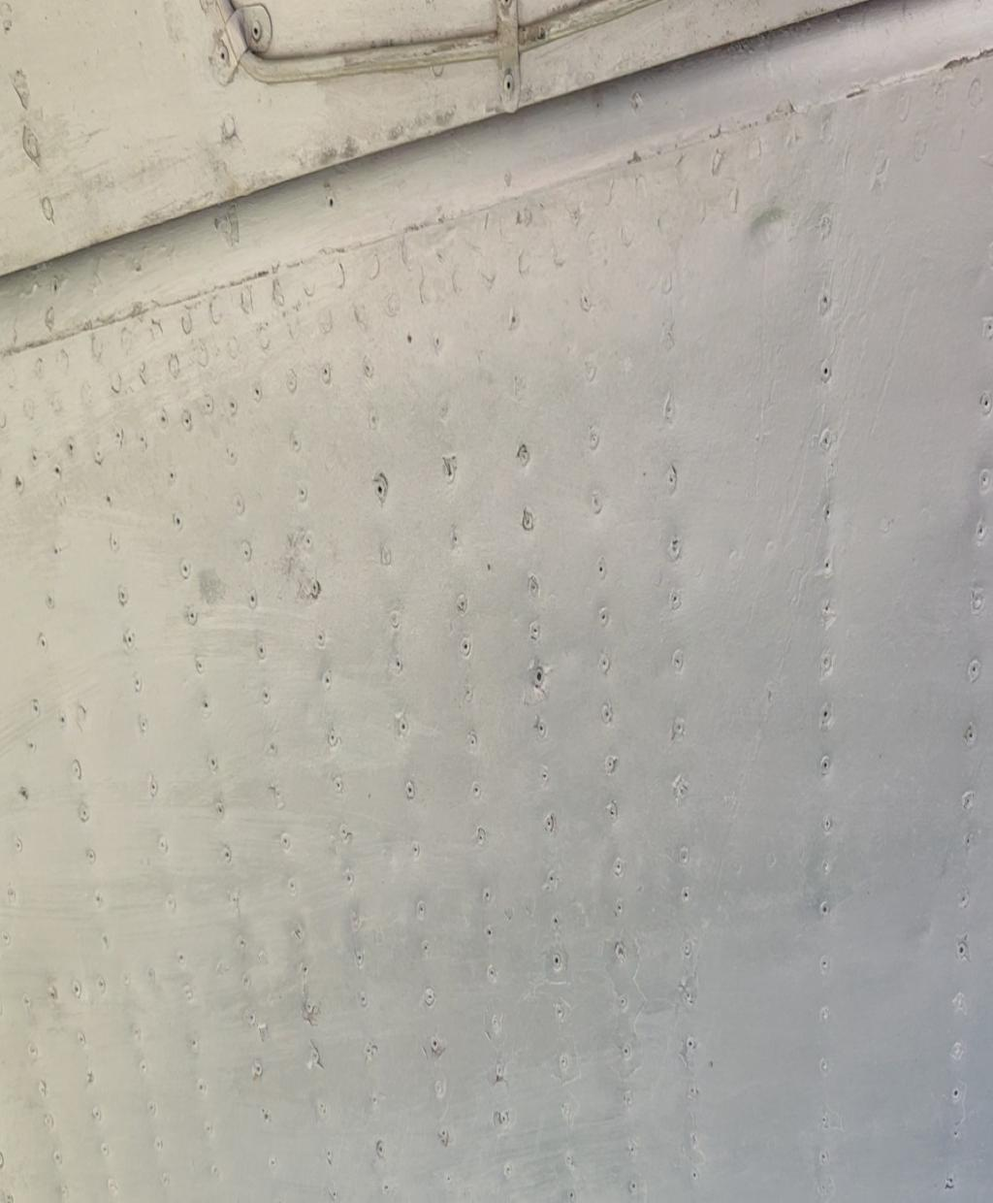dent: (744, 193, 793, 252)
